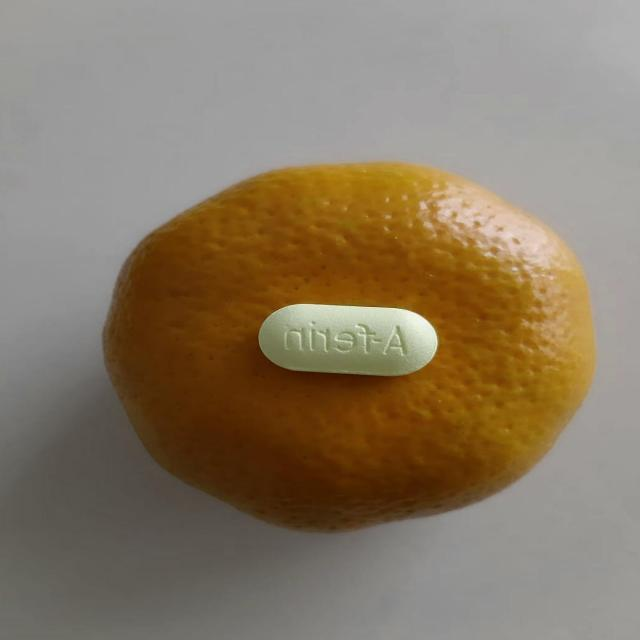pill: (255, 302, 440, 377)
